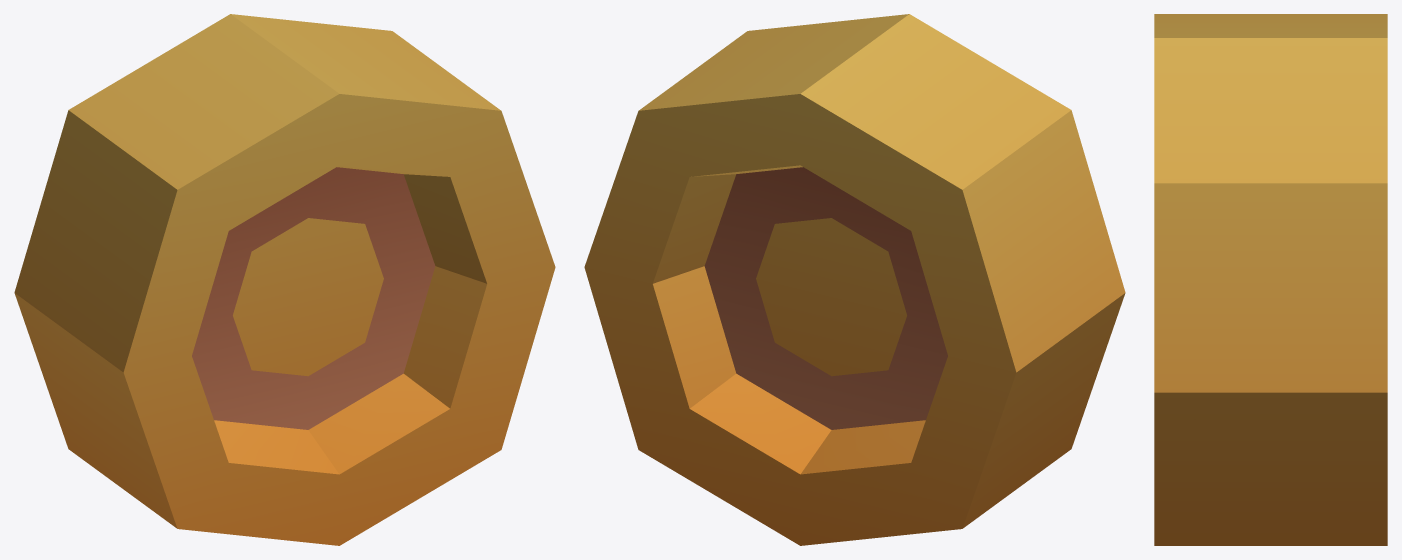
File: moeda.glb
The picture shows the model from 3 angles, left to right: view 1: azimuth 30°, elevation 25°; view 2: azimuth 150°, elevation 25°; view 3: azimuth 270°, elevation 25°; orthographic projection. The views are drawn at different scales.
Parts seen in each view (by area): view 1: modelo; view 2: modelo; view 3: modelo.
Boxes of the visible parts, x1,y1,x2,y2 form: modelo: (14, 14, 555, 545); modelo: (584, 14, 1125, 545); modelo: (1154, 14, 1387, 545).
Bounding box in the file's own units: 1.4 × 1.4 × 0.6125.
